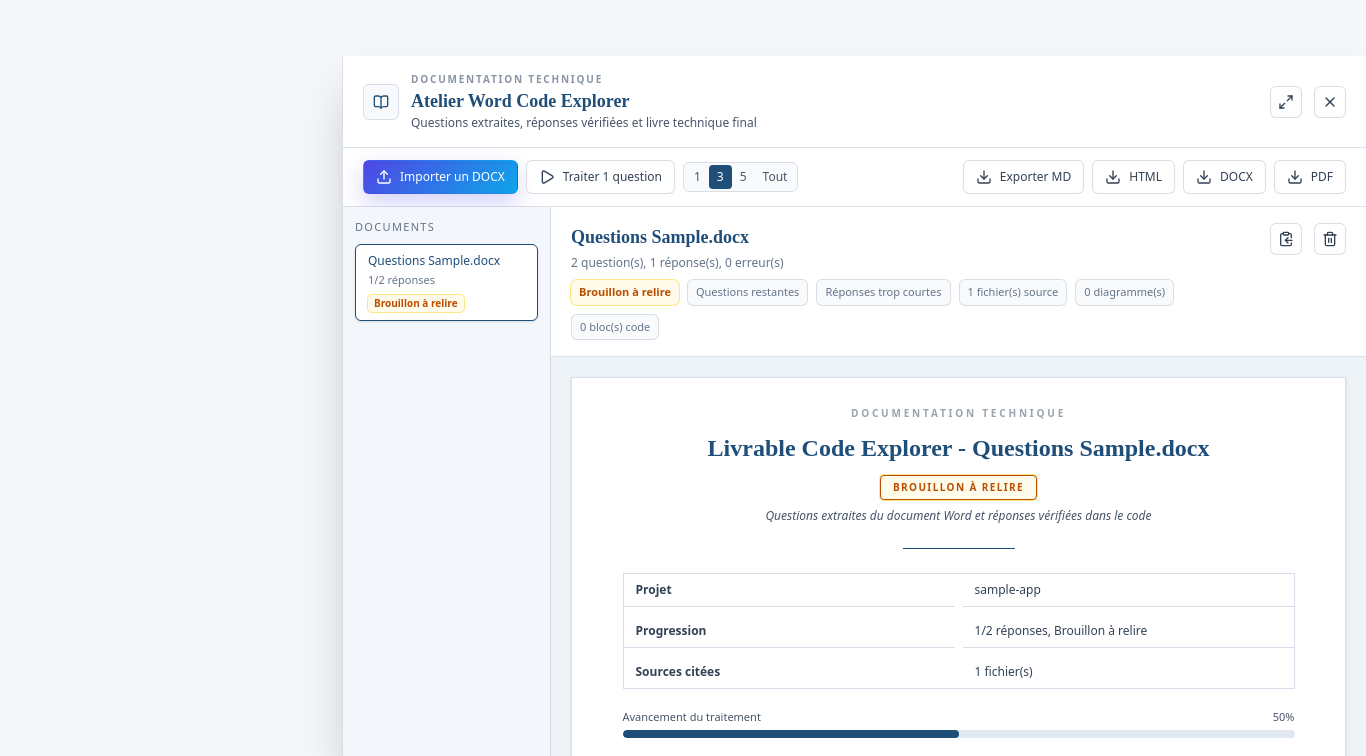
WorkDocumentsPanel › does not mark questions as failed when no project is selected before batch launch
The width and height of the screenshot is (1366, 756).
Click the button "Traiter 1 question" at (600, 177), box left=526, top=160, right=675, bottom=194
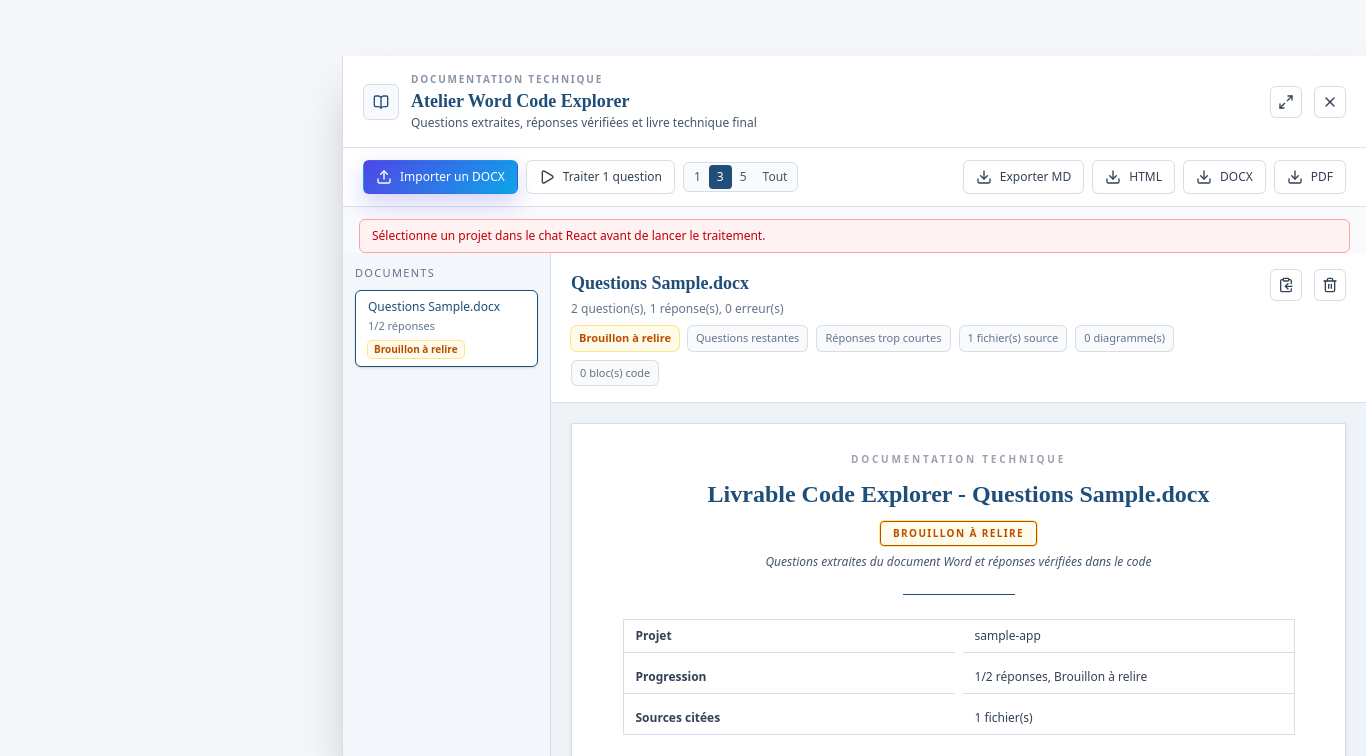
Now the text "Sélectionne un projet dans le chat React avant de lancer le traitement." is shown, box left=359, top=219, right=1350, bottom=253
